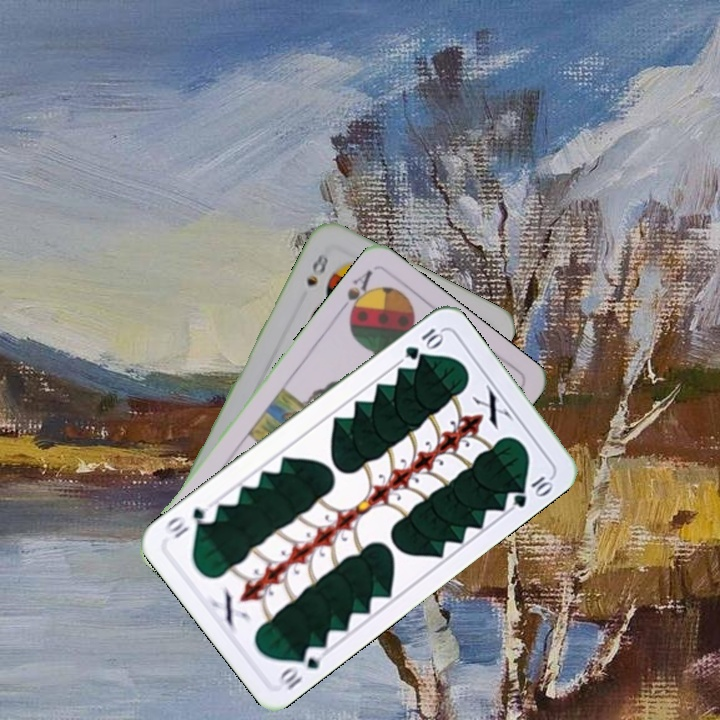G10: (273, 641, 328, 693), (401, 324, 446, 363)
S8: (302, 249, 331, 289)
SA: (334, 265, 378, 322)
